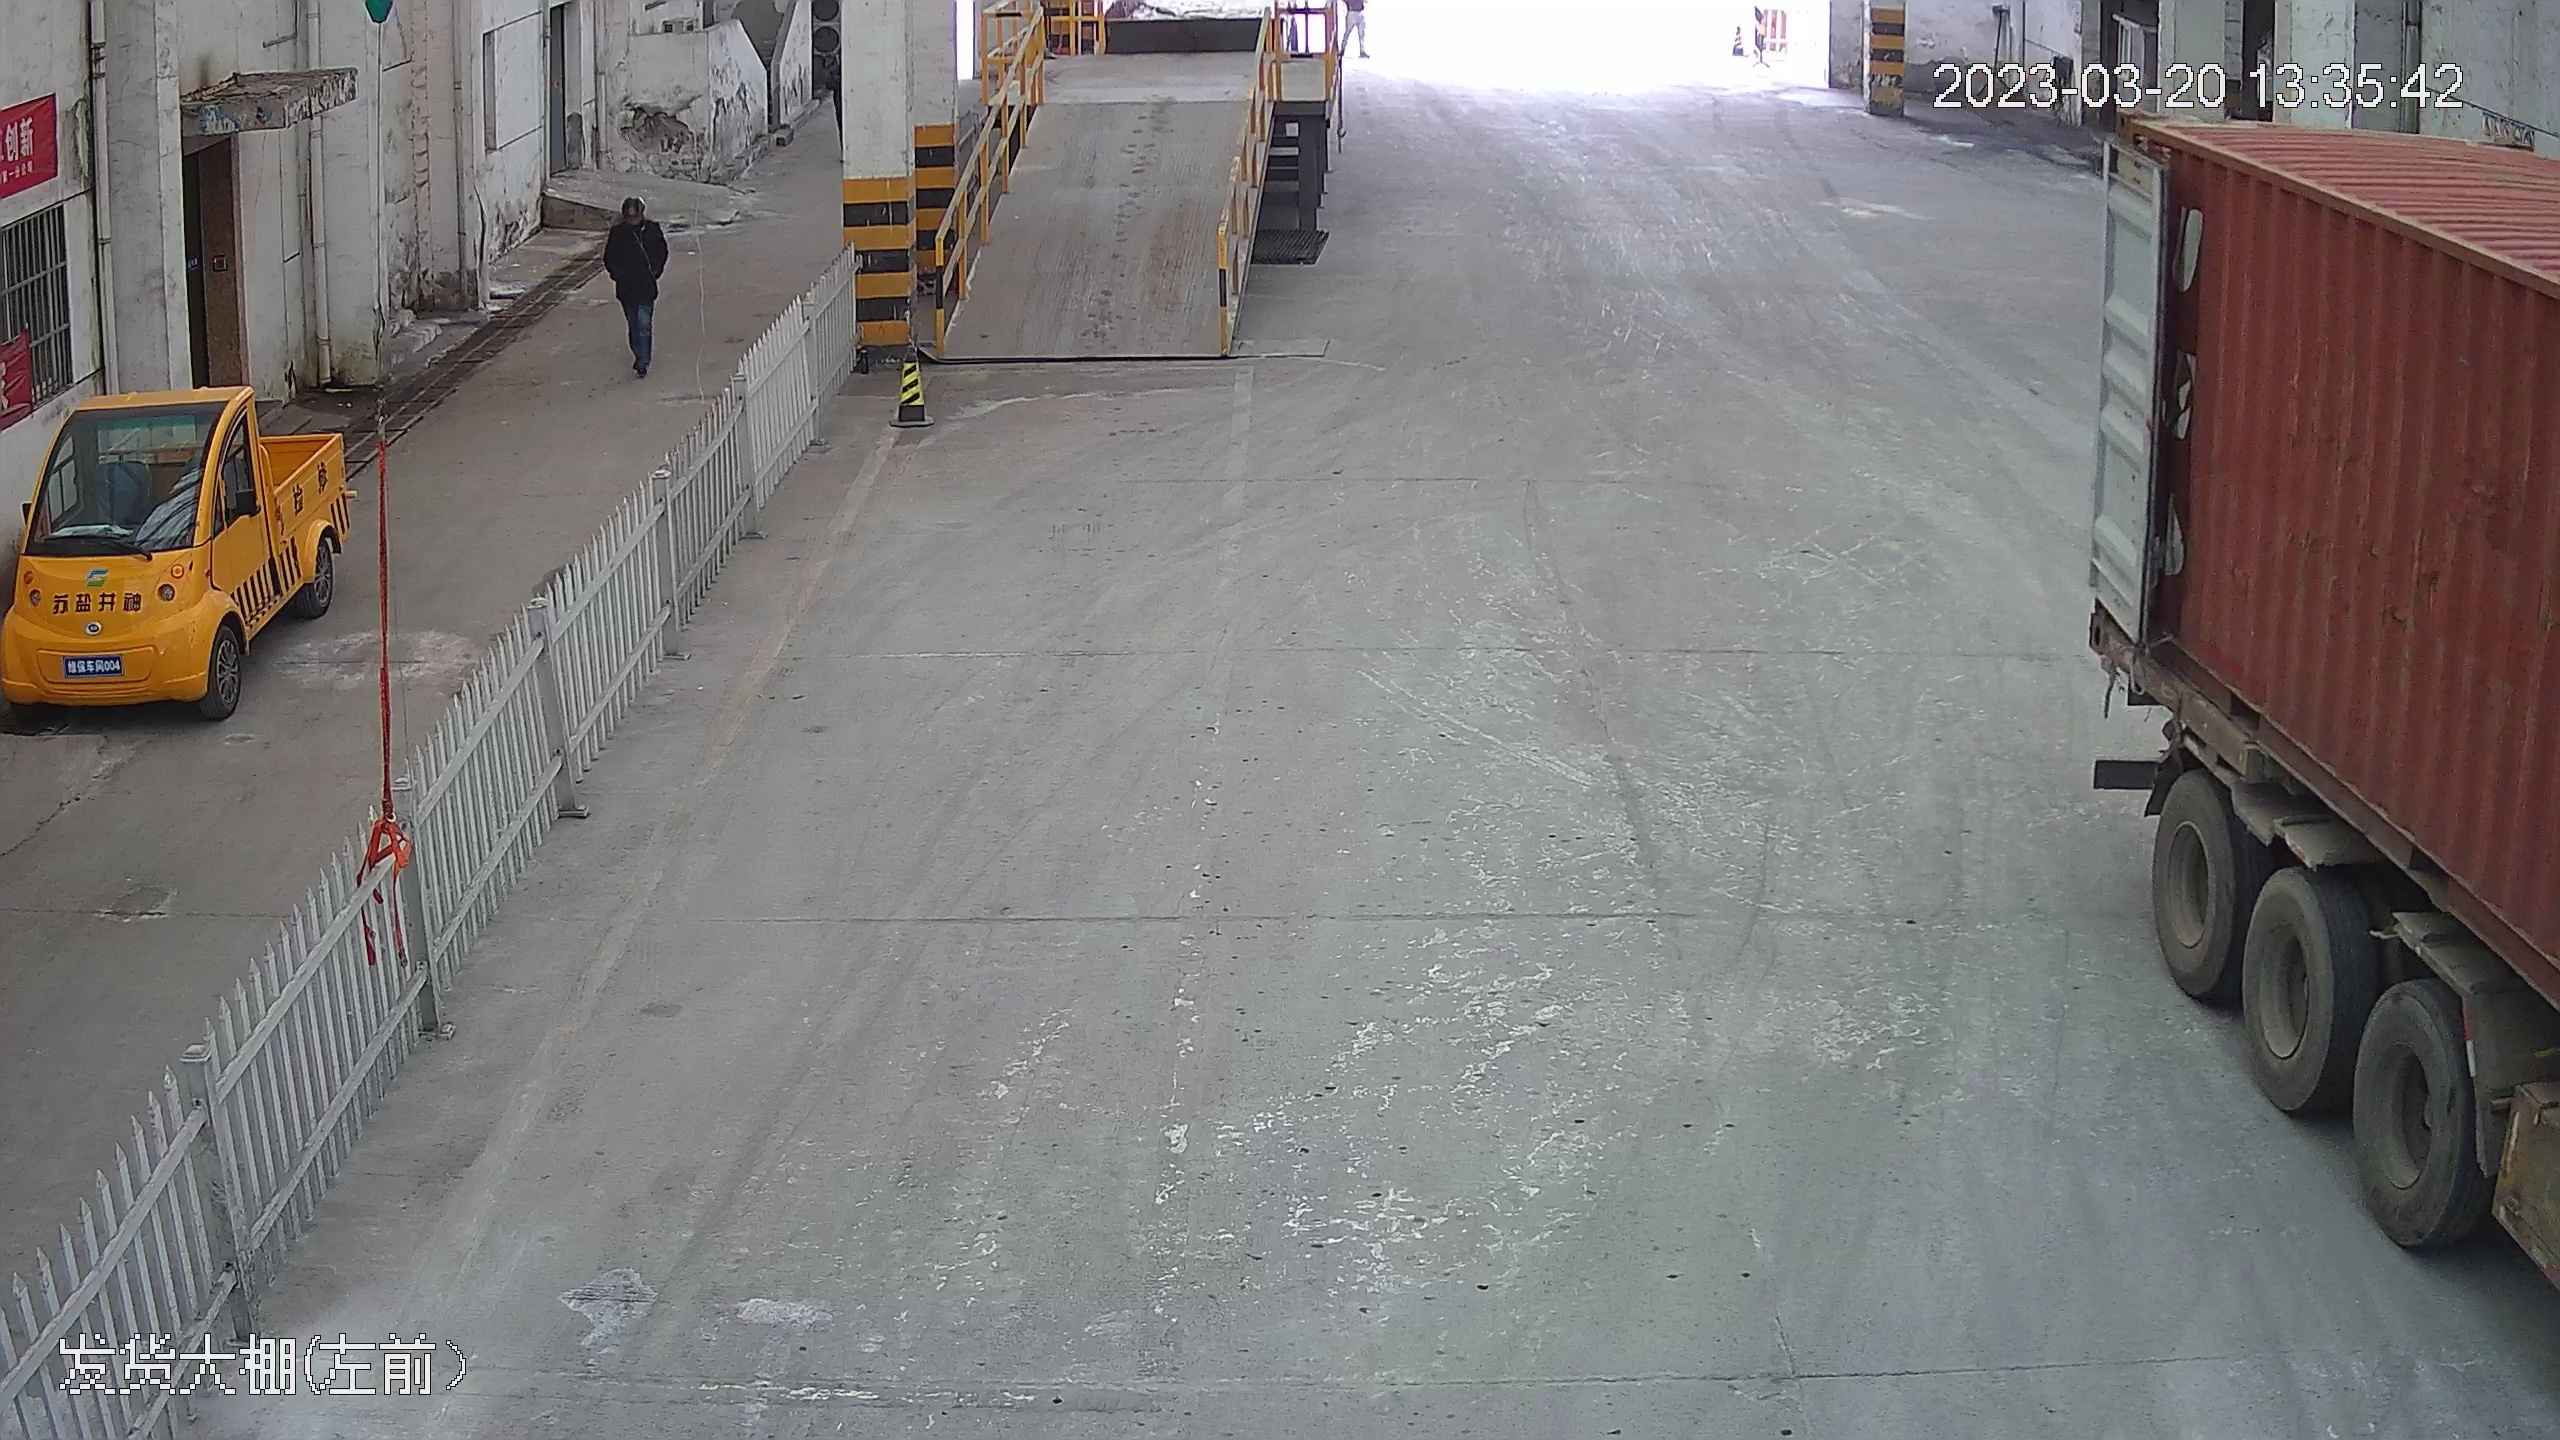head: (607, 190, 659, 244)
helmet: (618, 190, 648, 214)
people: (600, 190, 668, 382)
truck: (2075, 86, 2560, 1440)
